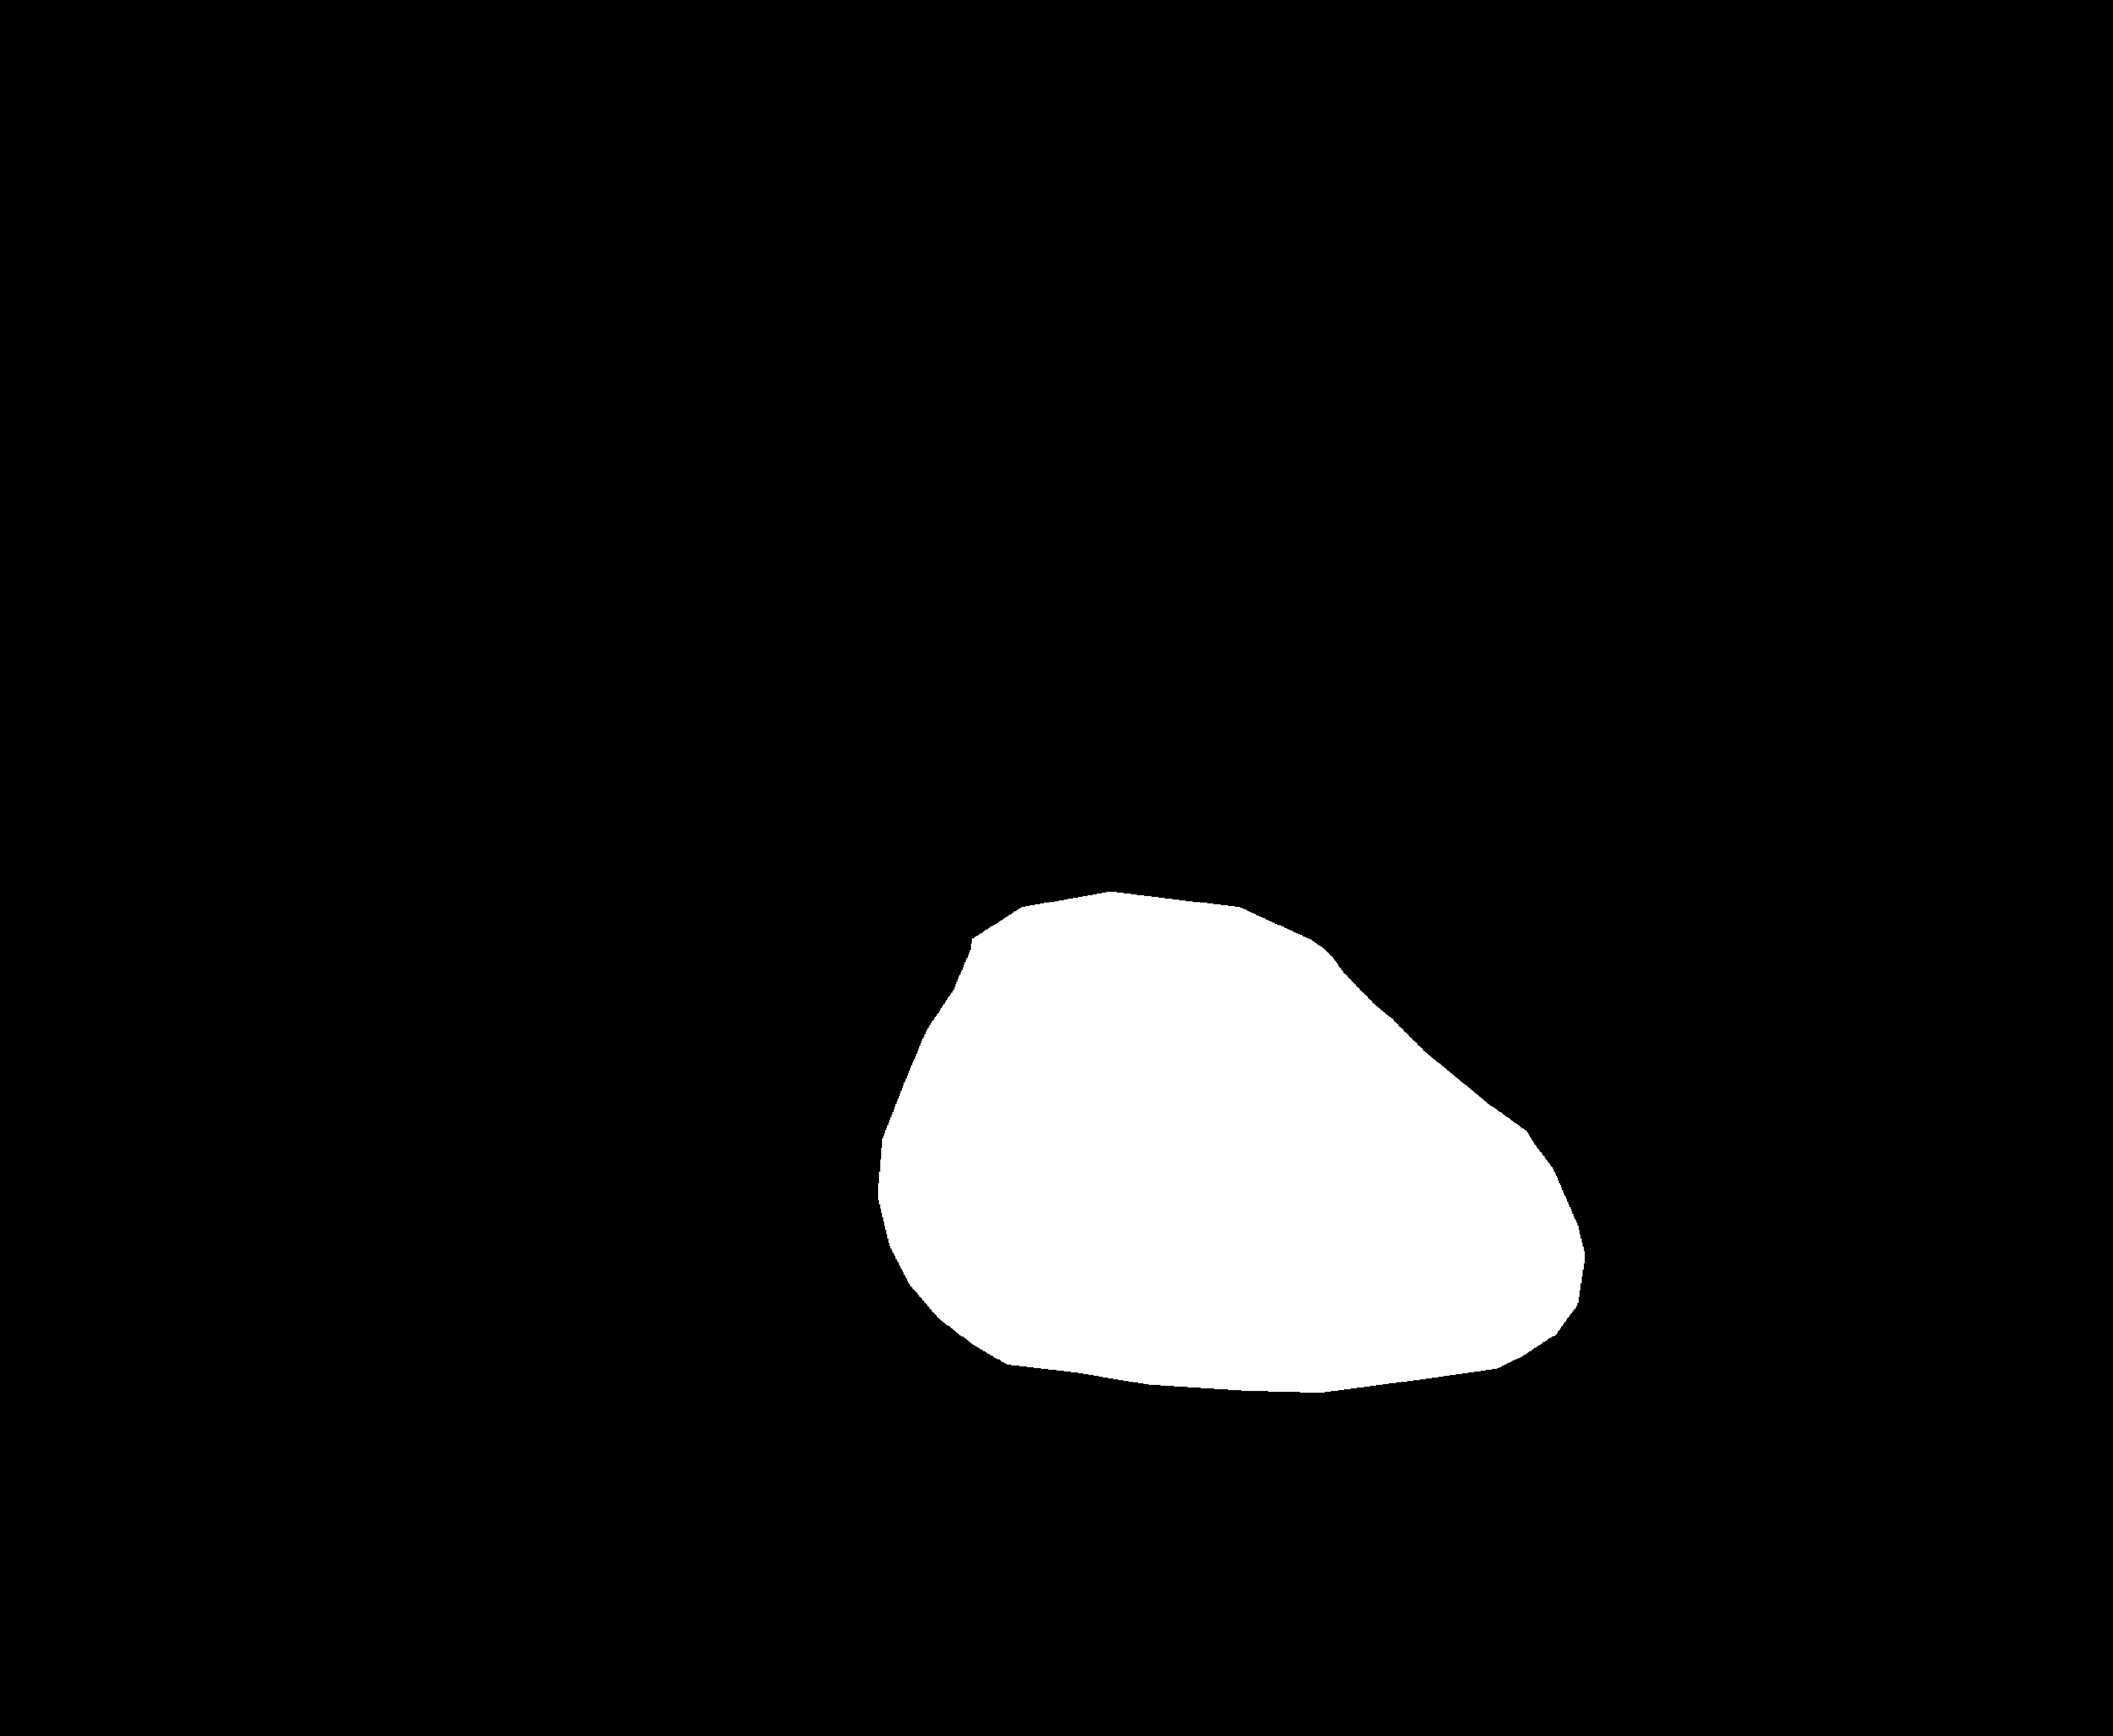heart: (872, 1020, 1564, 1425)
left_lung: (377, 125, 1109, 1436)
right_lung: (1186, 56, 1913, 1529)
